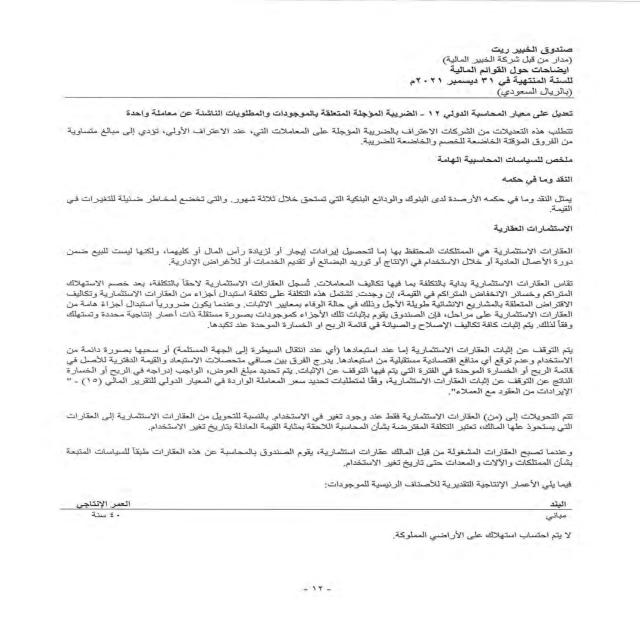notes: (449, 66, 575, 75)
text: (38, 106, 577, 543)
